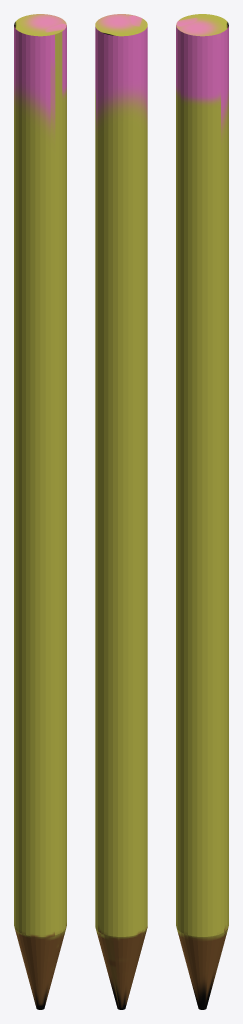
Rendered from pencil.obj.
3 views of the same model, side by side, from view 1: azimuth 90°, elevation 25°; view 2: azimuth 150°, elevation 25°; view 3: azimuth 270°, elevation 25° (orthographic).
Parts seen in each view (by area): view 1: pencil_Cylinder; view 2: pencil_Cylinder; view 3: pencil_Cylinder.
Boxes of the visible parts, <box> form: pencil_Cylinder: <box>14,14,66,1009</box>; pencil_Cylinder: <box>95,14,147,1009</box>; pencil_Cylinder: <box>176,14,228,1009</box>.
Size of the model in its own units: 0.1772 by 3.65 by 0.1772.
Materials: 1 (1 with a texture image).
